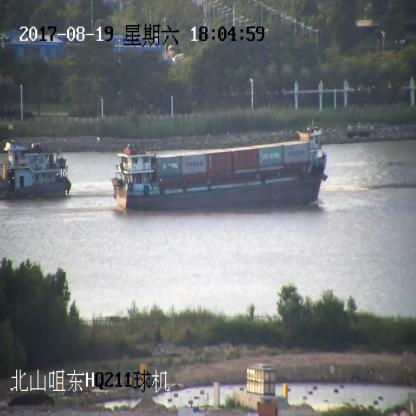Container Ship: (112, 126, 328, 210), (0, 140, 72, 198)
